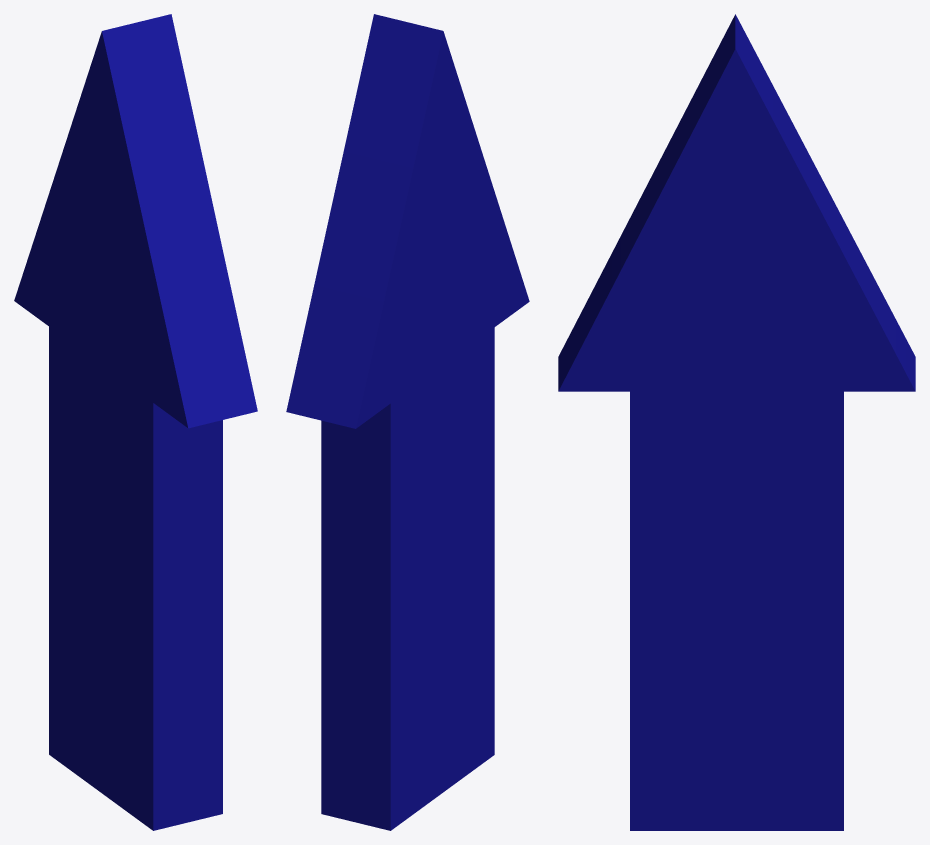
Rendered from Arrow.fbx.
3 renders of one model, left to right at view 1: azimuth 30°, elevation 25°; view 2: azimuth 150°, elevation 25°; view 3: azimuth 270°, elevation 25°, orthographic. The views are drawn at different scales.
Visible parts, largest first — view 1: Arrow1; view 2: Arrow1; view 3: Arrow1.
Part boxes in pixels (x1,y1,x2,y2): Arrow1: (14,14,257,830); Arrow1: (286,14,529,830); Arrow1: (558,14,915,830).
Size of the model in its own units: 0.0907 by 0.9498 by 0.3933.
